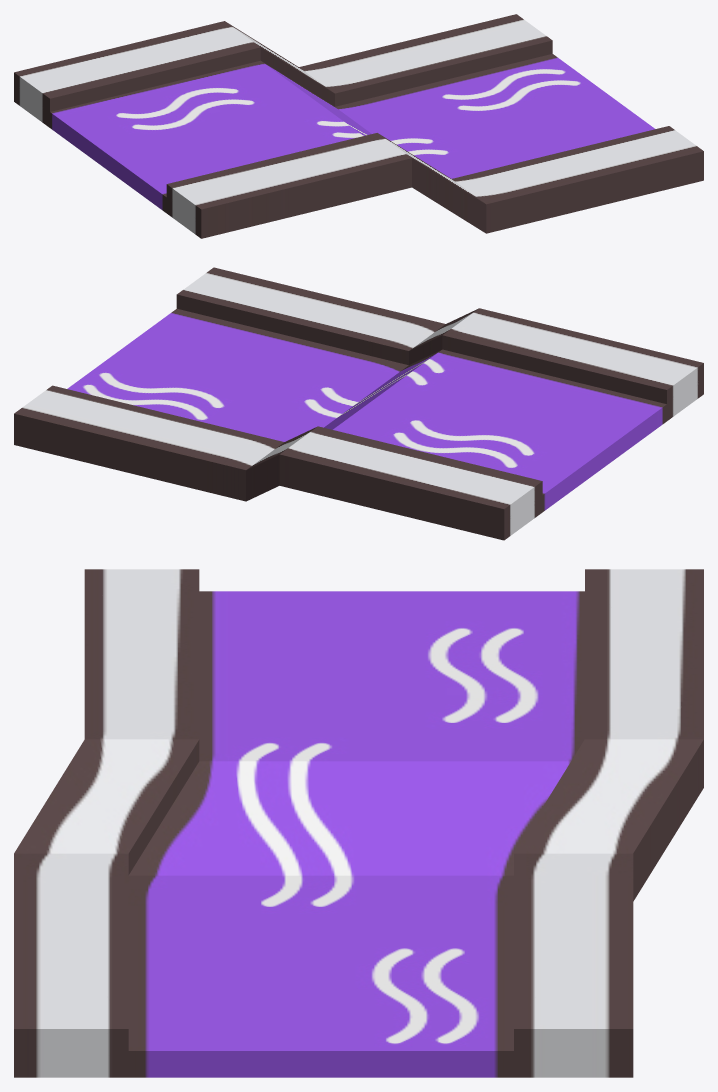
Rendered from Water.fbx.
3 views of the same model, one above another, from view 1: azimuth 30°, elevation 25°; view 2: azimuth 150°, elevation 25°; view 3: azimuth 270°, elevation 25° (orthographic). The views are drawn at different scales.
Visible parts, largest first — view 1: polySurface10; view 2: polySurface10; view 3: polySurface10.
Boxes of the visible parts, x1,y1,x2,y2 form: polySurface10: (14, 14, 703, 238); polySurface10: (14, 267, 703, 540); polySurface10: (14, 569, 703, 1077).
Bounding box in the file's own units: 3.81 × 0.5504 × 2.86.
